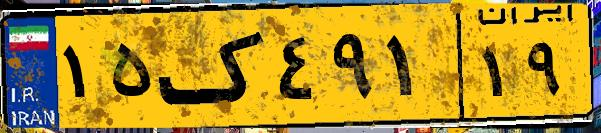1: (385, 28, 445, 110), (57, 26, 110, 100), (475, 38, 525, 113)
4: (270, 28, 330, 110)
5: (110, 28, 158, 98)
9: (330, 28, 385, 110), (525, 38, 570, 115)
ک: (158, 12, 270, 120)
